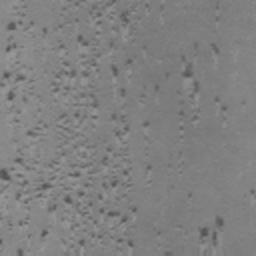Oxide scale of temperature system: (51, 3, 137, 187), (0, 126, 88, 241), (2, 21, 26, 101), (198, 215, 225, 246), (181, 63, 201, 93), (210, 43, 221, 55), (152, 227, 166, 236), (107, 210, 121, 217)
